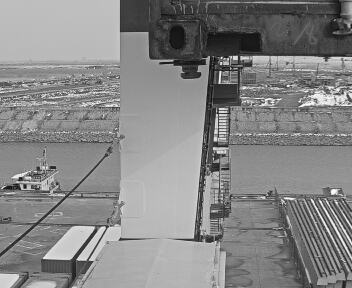twist_lock_1: (165, 56, 213, 86)
